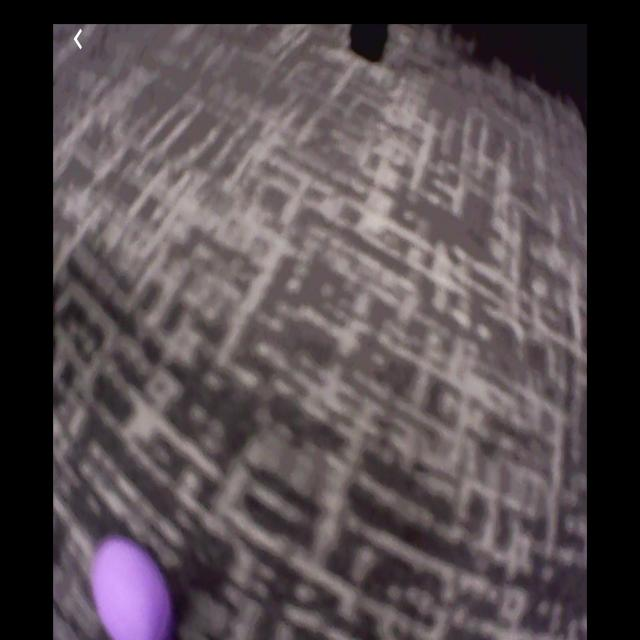ball: (92, 538, 172, 640)
